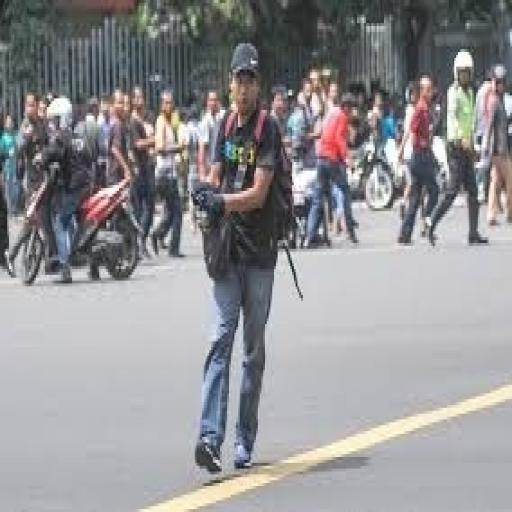running: (190, 38, 298, 477)
